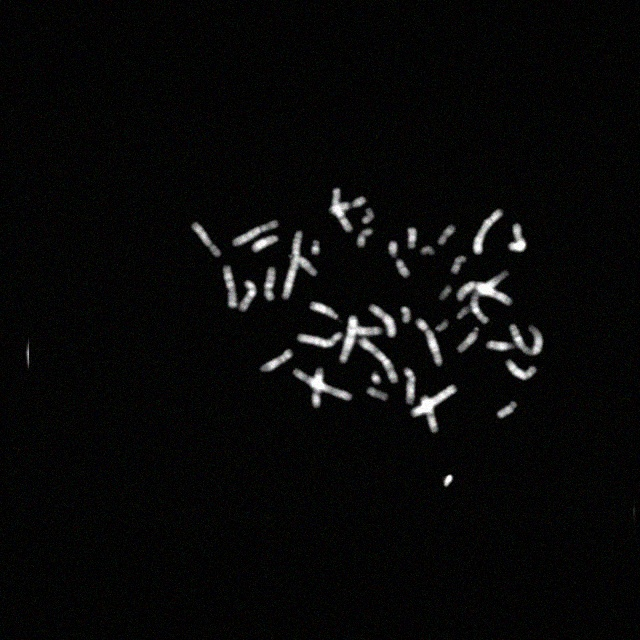chromosome: (471, 270, 509, 324), (292, 368, 352, 402), (358, 338, 398, 382), (411, 384, 457, 418), (282, 230, 304, 300), (473, 208, 503, 254), (456, 282, 512, 306), (416, 318, 442, 367), (232, 220, 280, 246), (190, 222, 222, 258), (510, 323, 542, 355), (370, 304, 396, 338), (332, 188, 352, 232), (340, 315, 358, 363), (388, 240, 410, 278), (296, 332, 342, 348), (260, 349, 292, 371), (420, 395, 438, 433), (222, 266, 238, 308), (330, 196, 366, 214), (238, 280, 257, 312), (506, 360, 536, 380), (457, 327, 479, 353), (289, 256, 317, 276), (508, 224, 526, 252), (310, 302, 338, 320), (252, 235, 278, 252), (312, 368, 323, 408), (404, 368, 416, 404), (264, 267, 276, 301), (438, 224, 456, 246), (497, 400, 517, 418), (348, 326, 382, 336), (357, 228, 373, 248), (456, 306, 478, 320), (486, 341, 516, 351), (451, 256, 467, 274), (367, 388, 388, 400), (408, 227, 417, 249), (438, 286, 452, 300), (362, 208, 374, 224), (400, 306, 410, 322), (436, 320, 448, 332), (421, 246, 435, 256), (371, 370, 381, 384), (312, 241, 321, 255), (443, 474, 452, 488)
